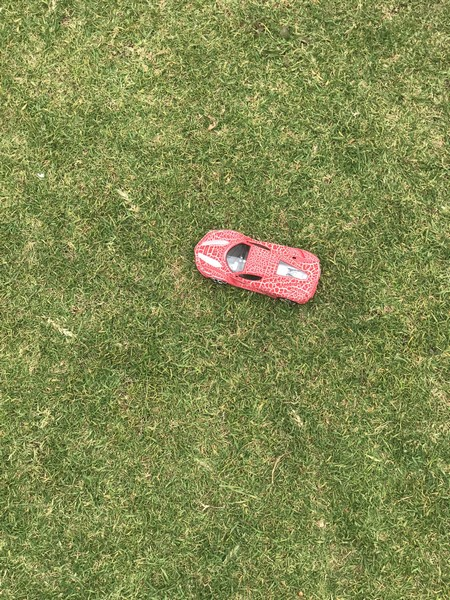RC: (194, 226, 322, 308)
